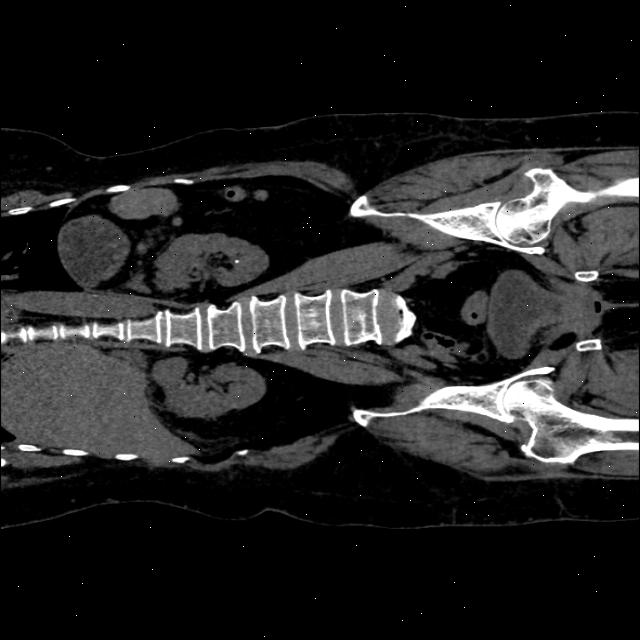kidneystone: (235, 259, 239, 265)
